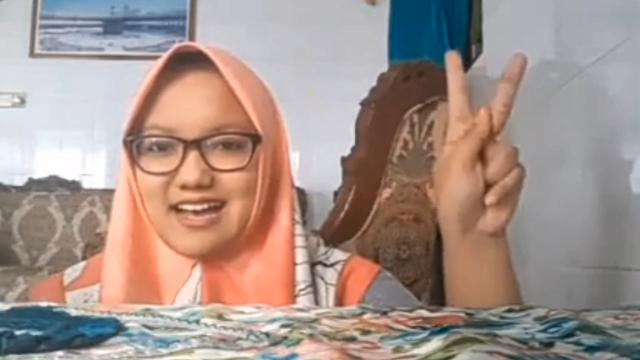K: (430, 46, 534, 244)
